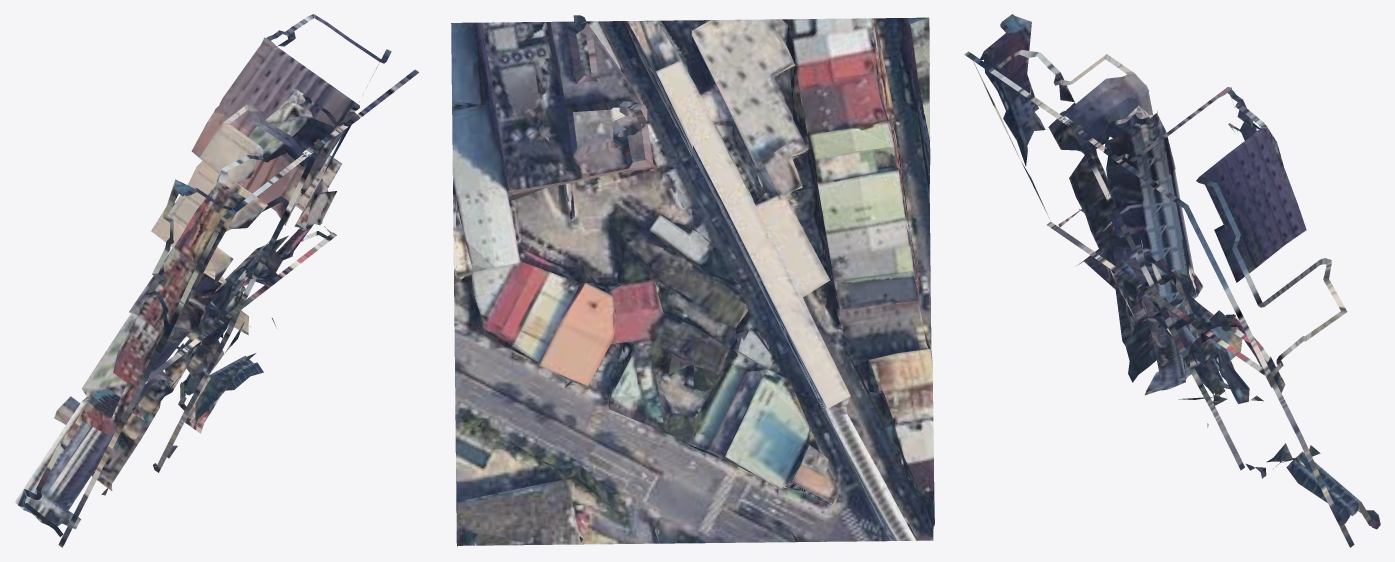
3 renders of one model, left to right at view 1: azimuth 30°, elevation 25°; view 2: azimuth 150°, elevation 25°; view 3: azimuth 270°, elevation 25°, orthographic. The views are drawn at different scales.
Size of the model in its own units: 161 by 159 by 136.
1 material, 1 textured.
